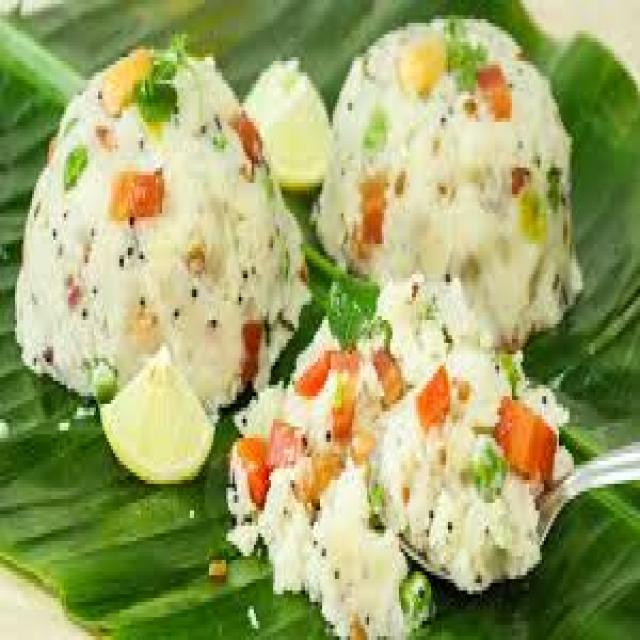UPMA: (228, 282, 558, 634), (19, 45, 306, 417), (319, 14, 582, 336)
